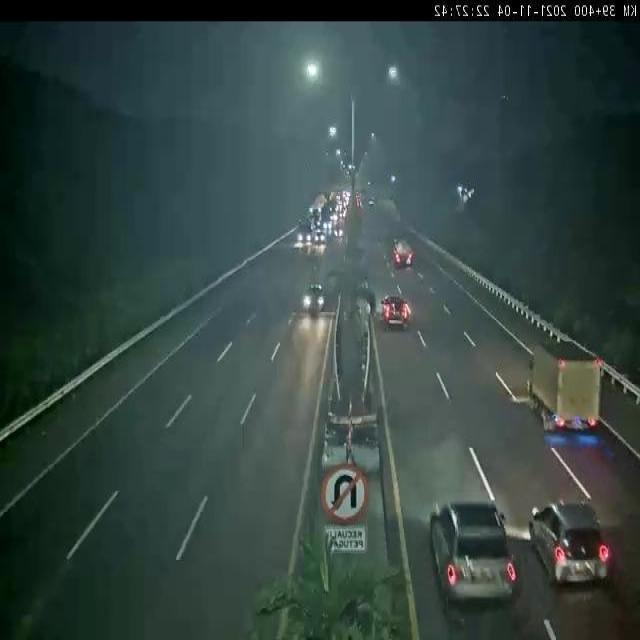Car: (425, 496, 513, 612), (530, 503, 612, 586), (381, 295, 411, 328), (302, 285, 327, 312), (297, 228, 313, 244), (313, 232, 327, 245)
Truck: (528, 340, 604, 446), (391, 238, 414, 267)
